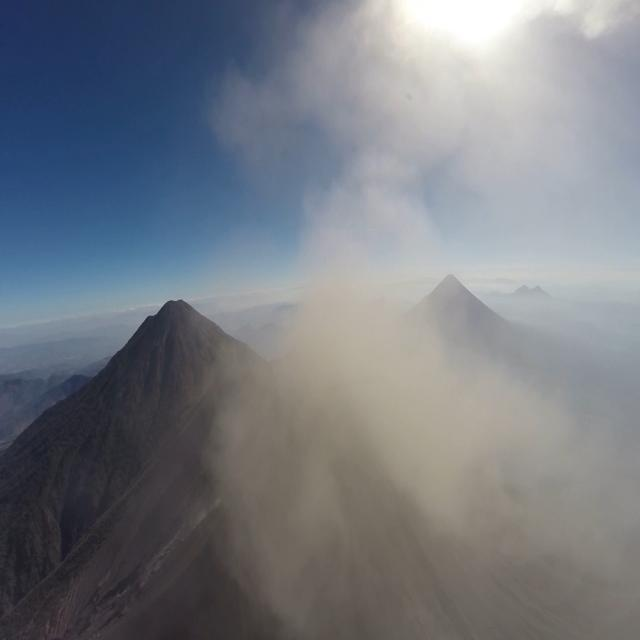Plume: (203, 1, 640, 640)
